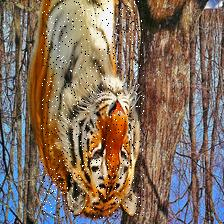tiger: (41, 0, 144, 218)
